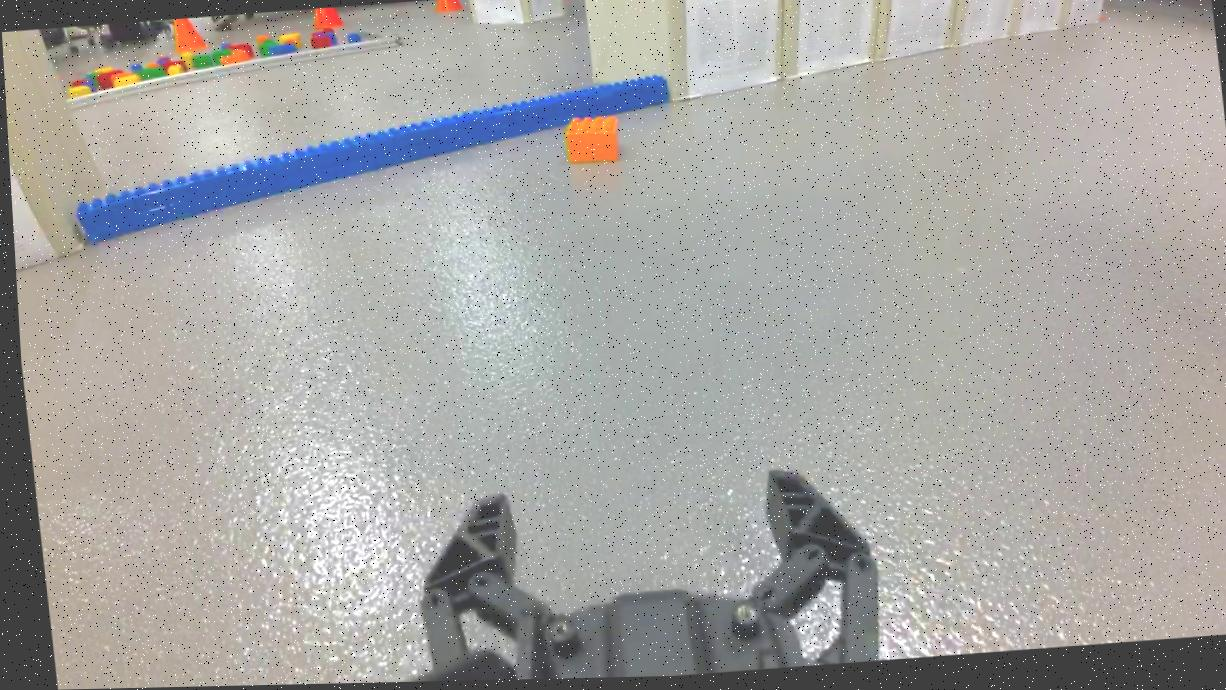4x4lego: (558, 116, 622, 167)
